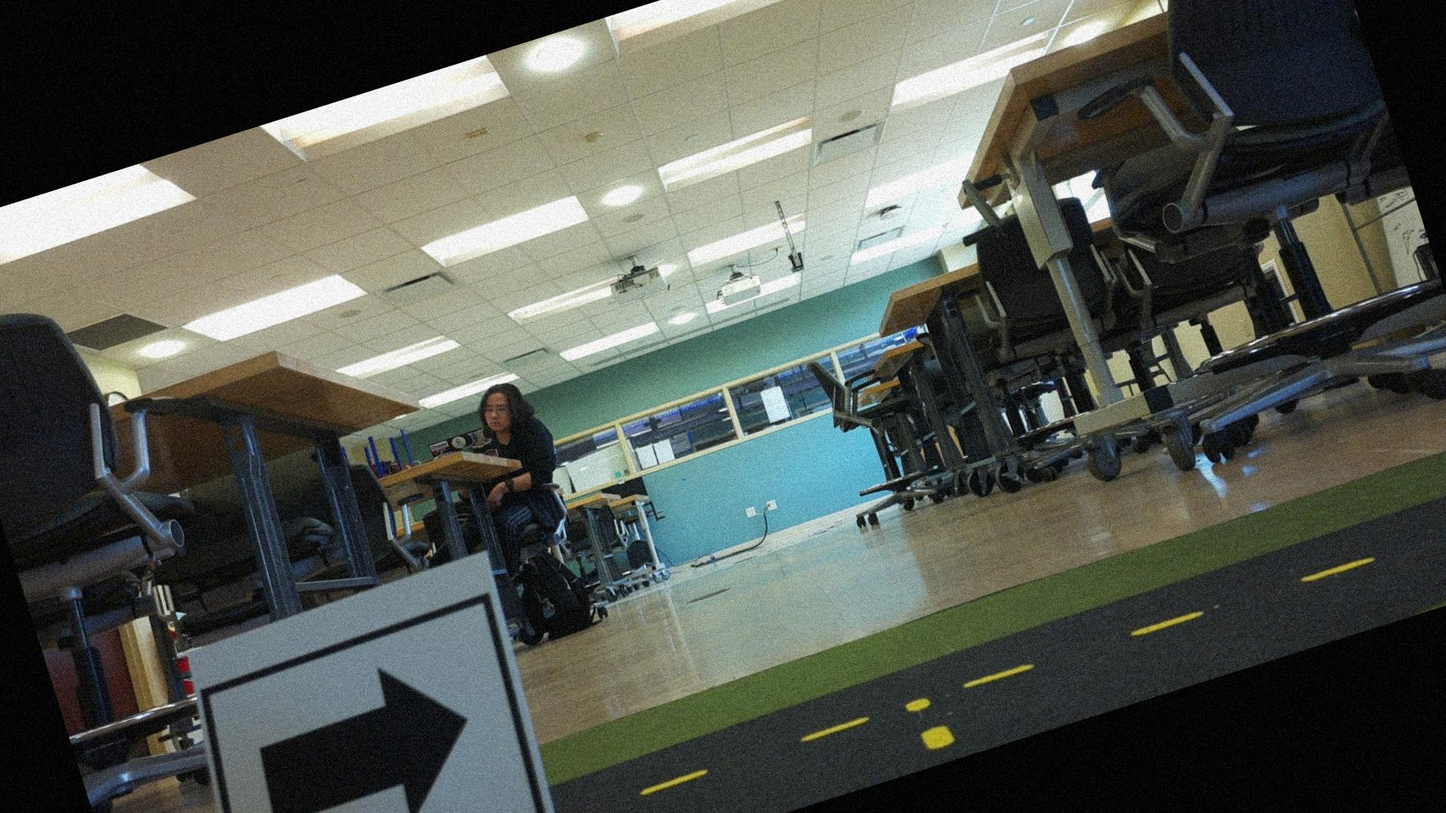turnright: (201, 607, 554, 812)
yellowline: (636, 509, 1445, 798), (903, 691, 959, 758)
